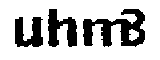3: (115, 6, 147, 50)
h: (47, 5, 80, 50)
m: (82, 17, 130, 53)
u: (13, 13, 43, 51)
